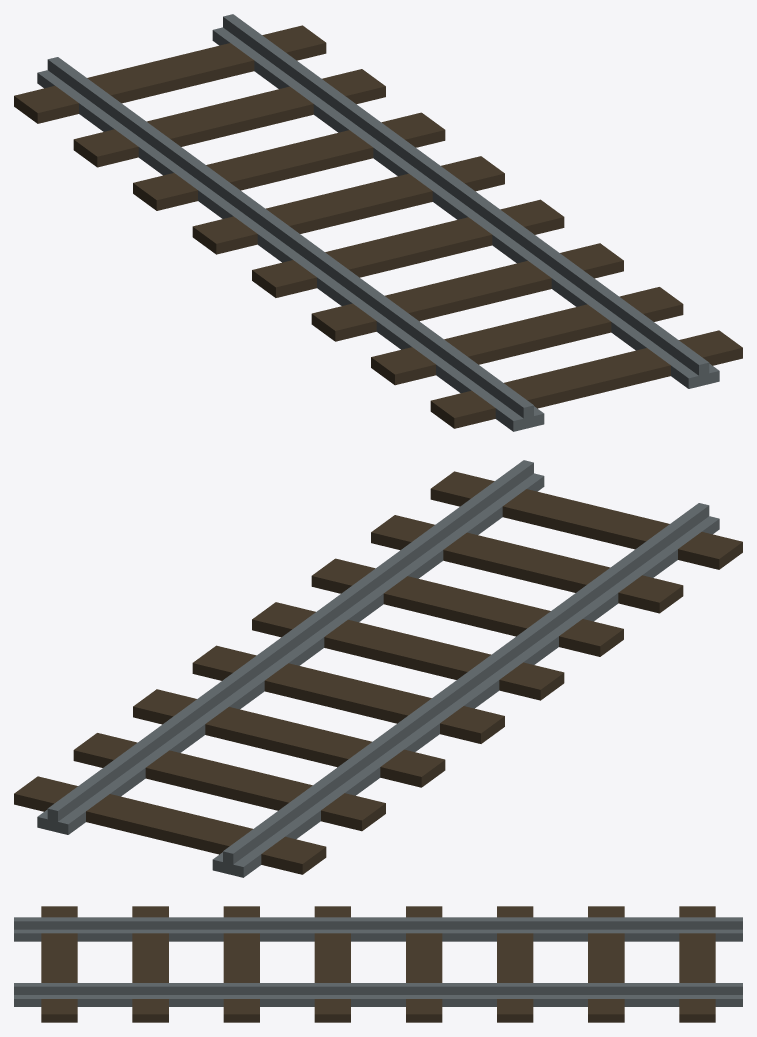
The model's file is railway_straight.obj.
The picture shows the model from 3 angles, top to bottom: view 1: azimuth 30°, elevation 25°; view 2: azimuth 150°, elevation 25°; view 3: azimuth 270°, elevation 25°; orthographic projection. The views are drawn at different scales.
Size of the model in its own units: 2.8 by 0.2 by 8.
Materials: 1 (1 with a texture image).
